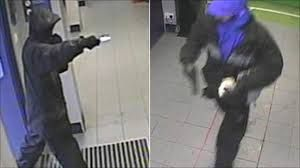gun: (174, 57, 212, 105), (76, 30, 115, 51)
